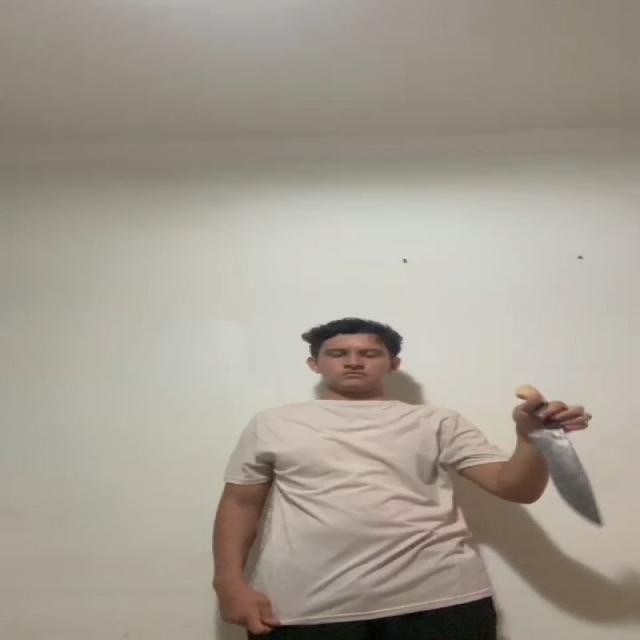knife: (524, 425, 598, 521)
